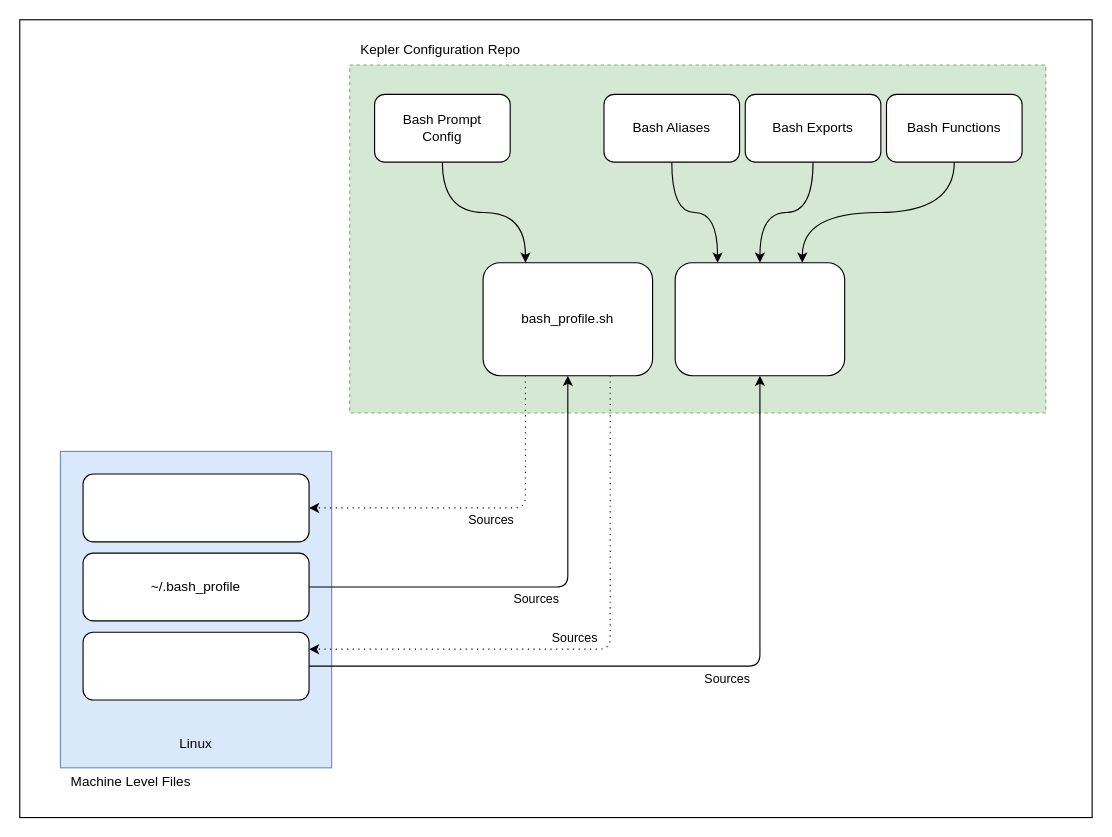
This 1112x837 diagram has some shape labels left out. The shapes that lost their labels are listed below. From the top down, each one's box as (x1, y1, x2, y2) in pixels, then its label:
(674, 262, 845, 376): bashrc.sh
(82, 473, 309, 542): ~/.profile
(82, 631, 309, 700): ~/.bashrc
